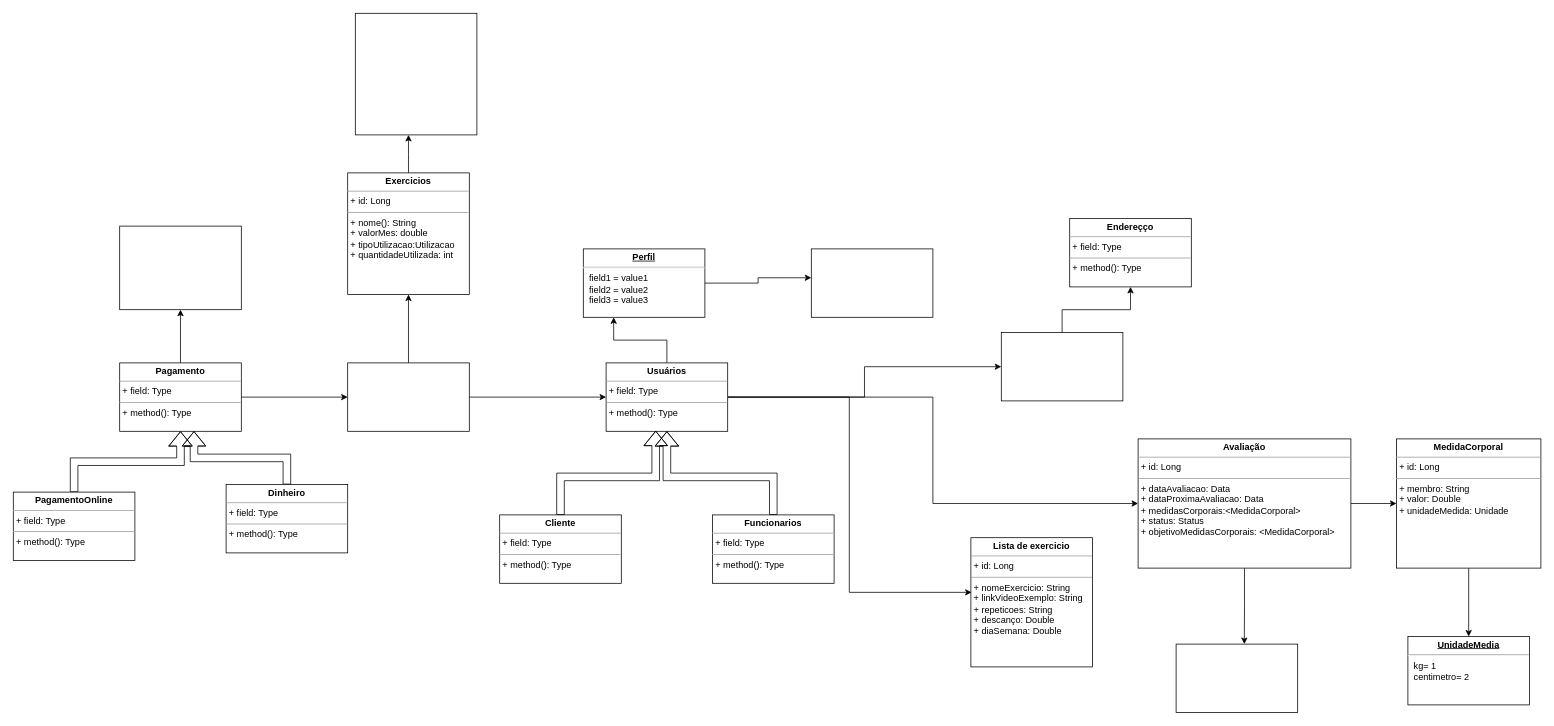
The diagram is 1554 pixels wide and 726 high, and some of its shapes have lost their labels. Each missing label, with the centre of its shape:
Empresa + field: Type + method(): Type: the point at 1062,366
Pacote de inscricao + field: Type + method(): Type: the point at 408,396
Permissões field1 = value1 field2 = value2 field3 = value3: the point at 872,282
Status Ruim= 1 Bom = 2 Ótimo = 3: the point at 1236,677
StatusPagamento Pendente= 1 Processando = 2 Finalizado= 3 Erro= 3: the point at 180,267
Utilizacao + id: Long + nome(): String + valor: double: the point at 416,74
